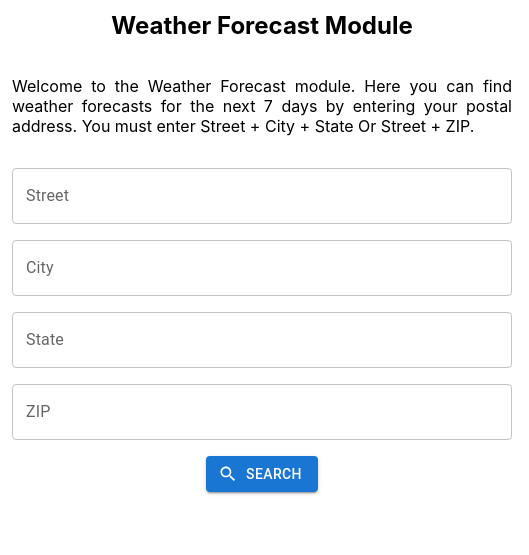
require street as a mandatory field
Type "20233" into the field labelled "ZIP" at (262, 412), box [12,384,512,440]
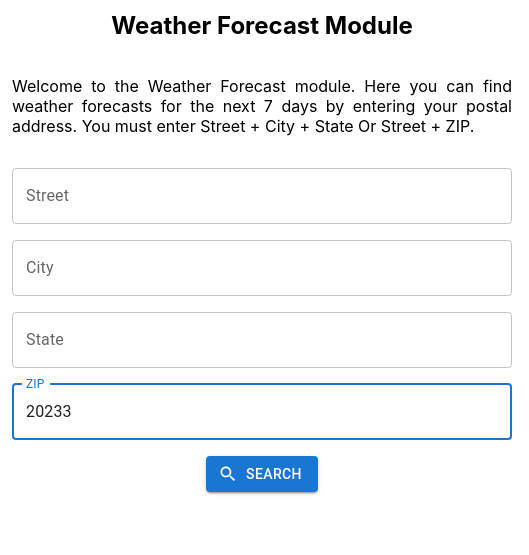
Click the button "Search" at (262, 474), box [206,456,318,492]
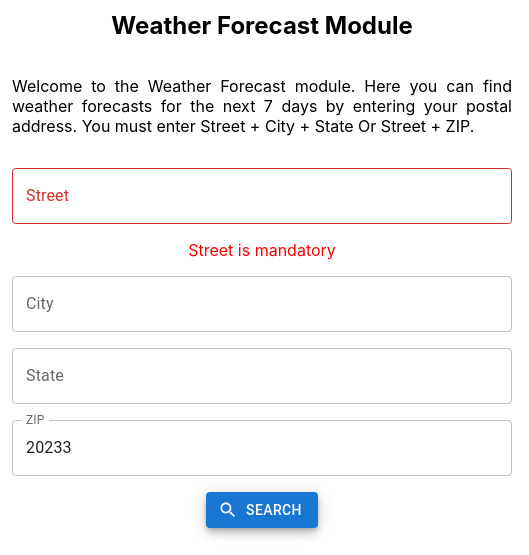
Expected: the text "Street is mandatory" is shown, [188,240,336,260]
